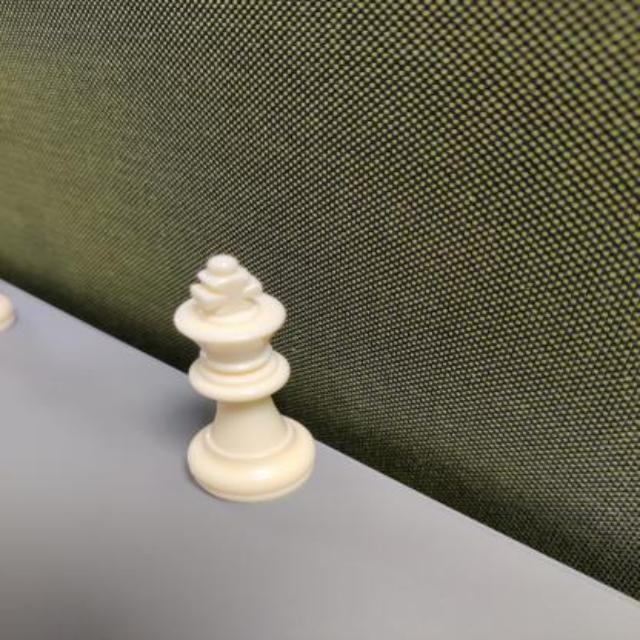white-king: (170, 251, 330, 505)
